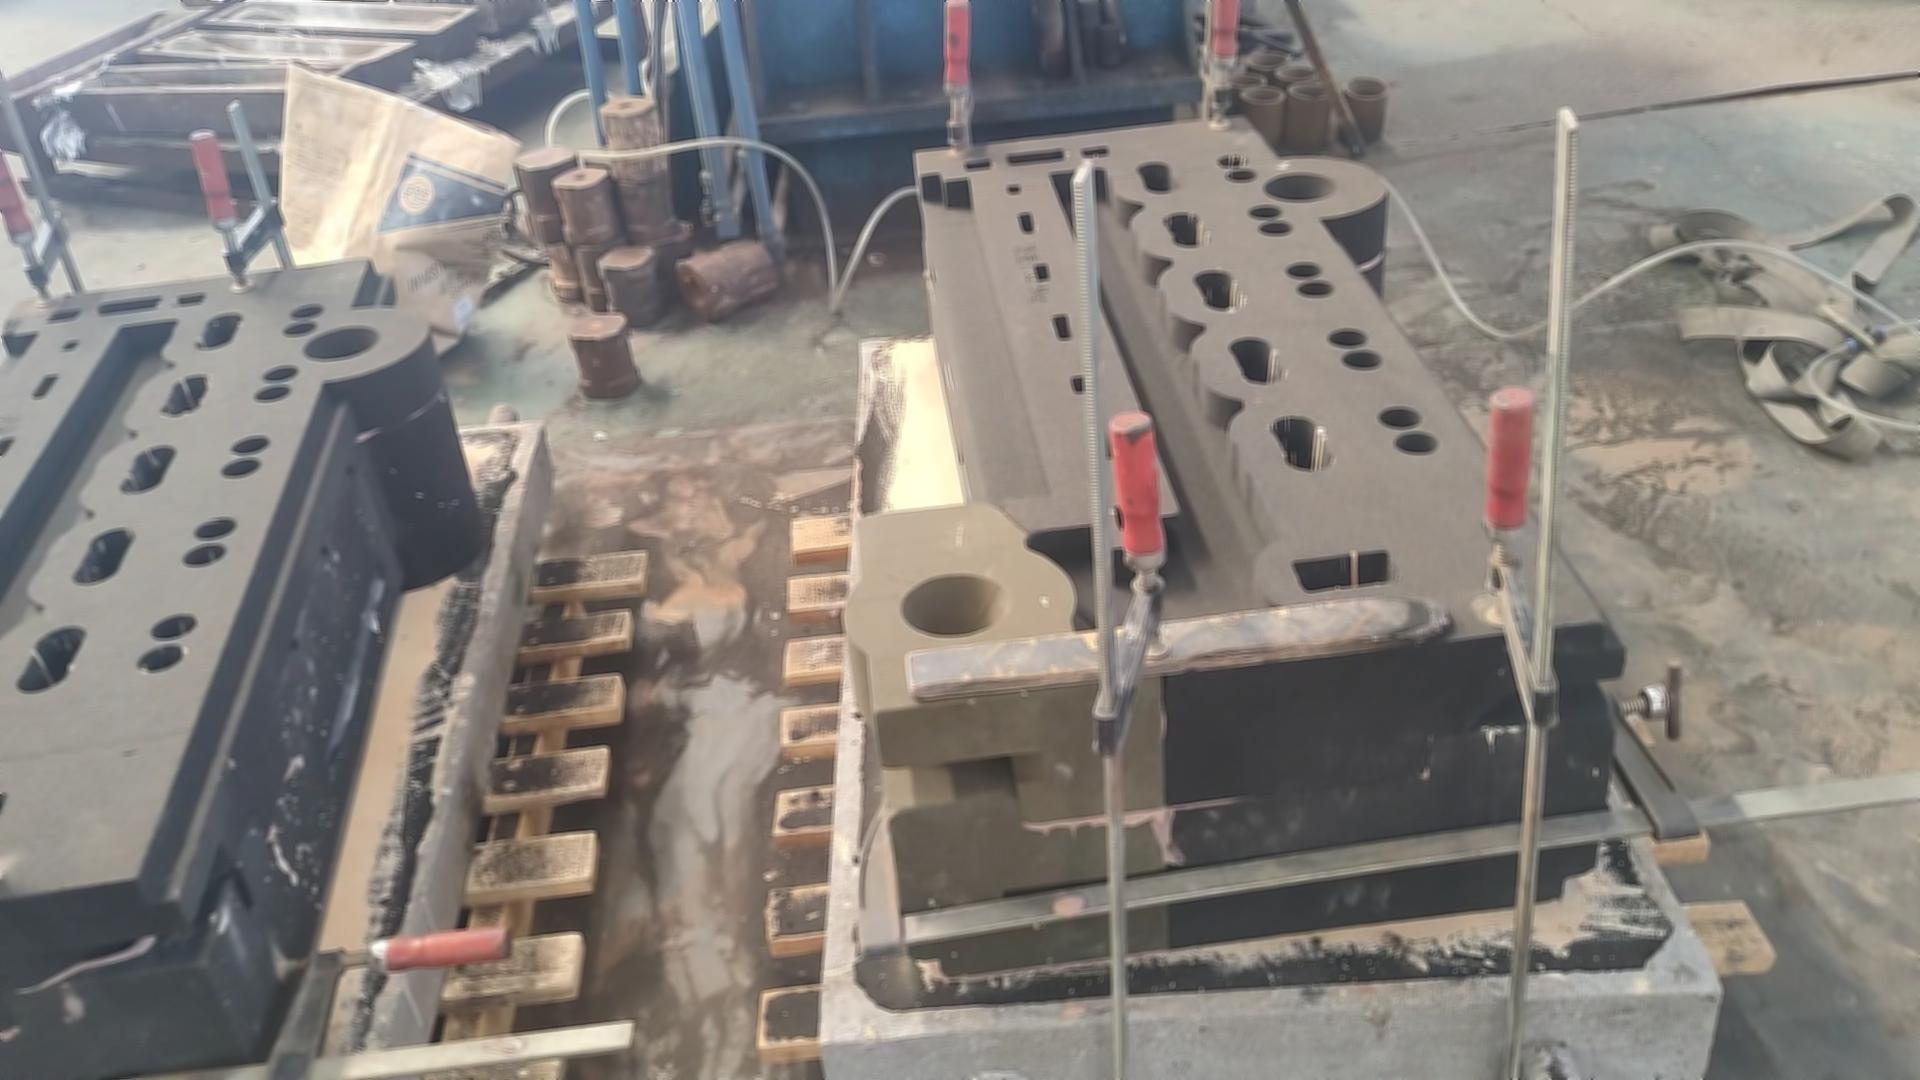pouring hole: (898, 572, 1010, 636), (301, 326, 381, 360), (1263, 171, 1338, 203), (1345, 76, 1386, 98), (1238, 86, 1284, 102), (1246, 51, 1288, 69), (1224, 73, 1265, 88), (1276, 67, 1319, 80), (1290, 84, 1328, 99)
